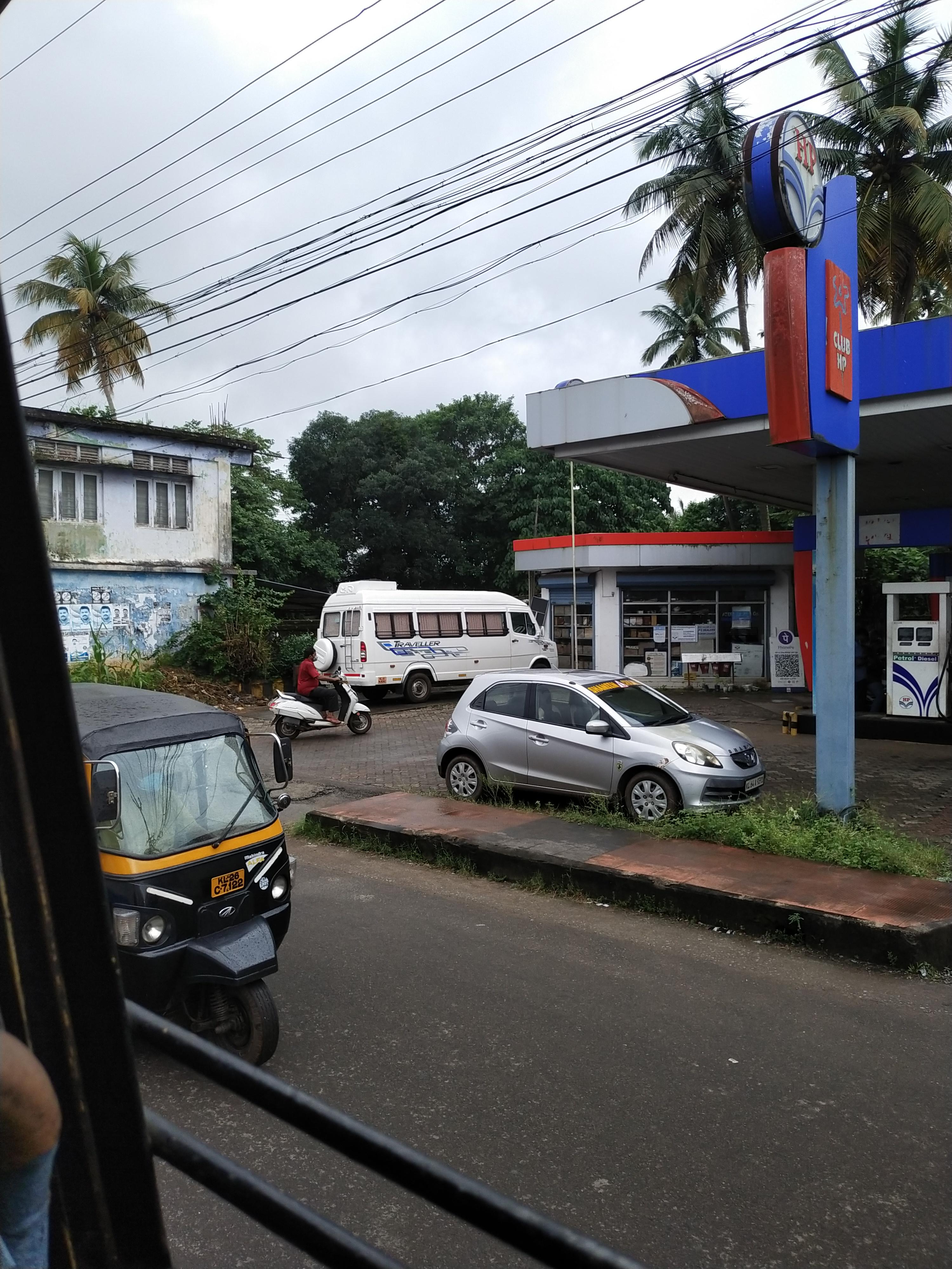number_plate: (210, 868, 244, 899), (744, 771, 765, 793)
